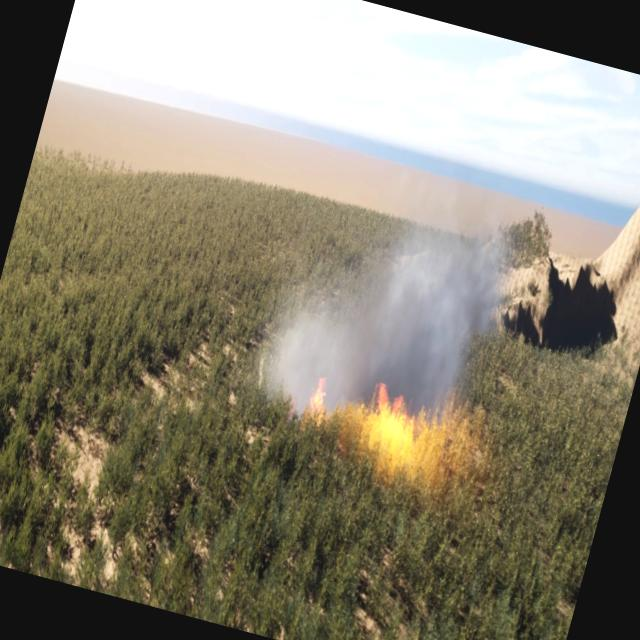fire: (294, 366, 482, 488)
smoke: (249, 179, 518, 470)
